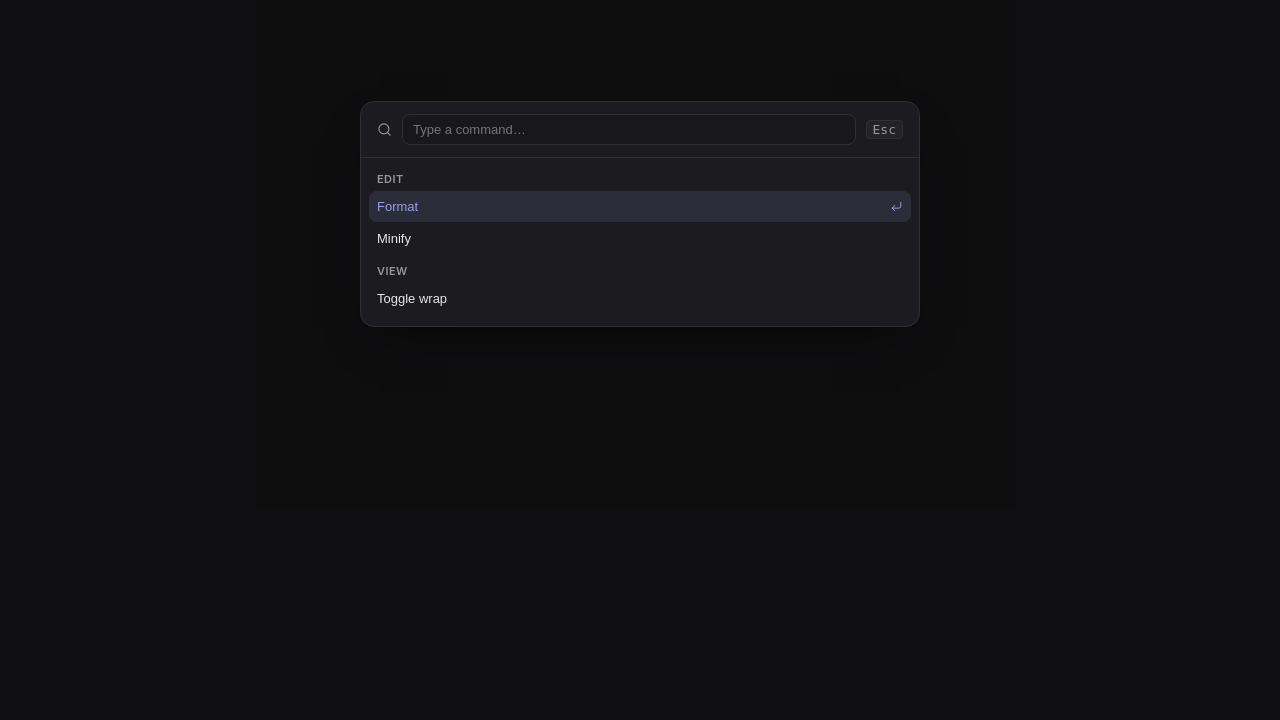
Scenario: CommandBar › also matches against the group name
Type "view" into the field with placeholder "Type a command…" at (629, 129), box [402, 114, 856, 145]
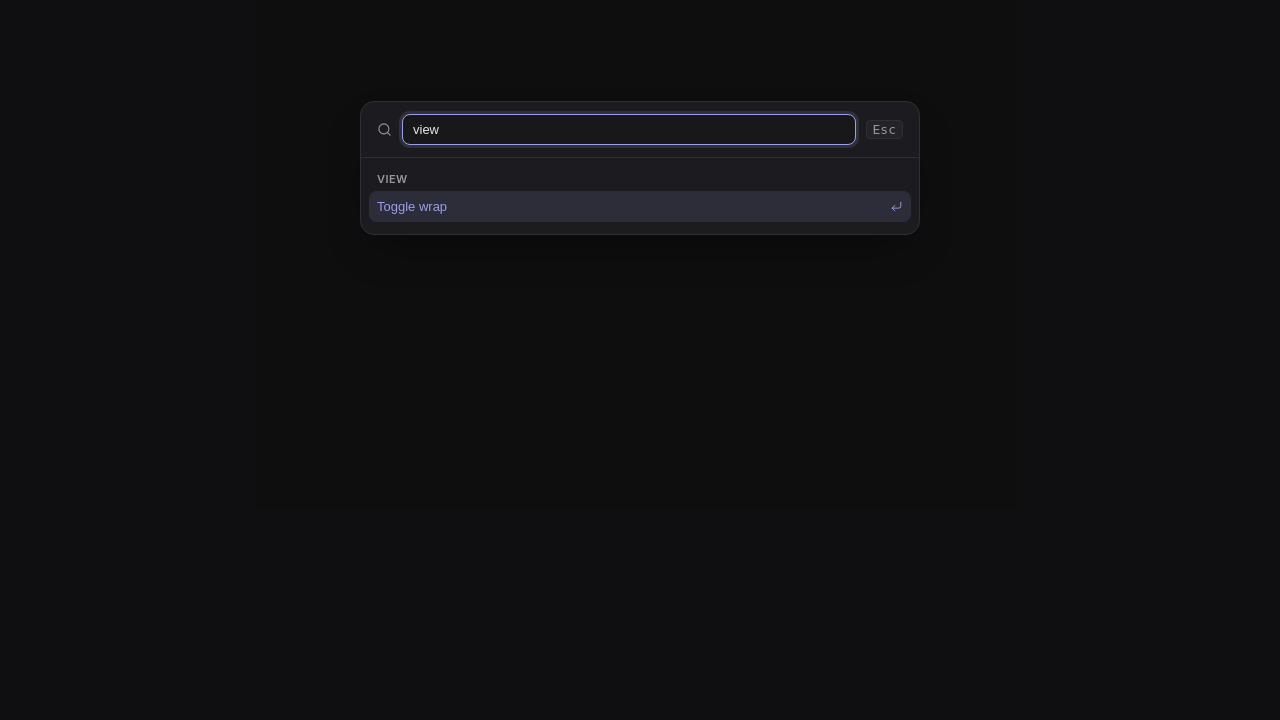
Expected: the button "Toggle wrap" is shown, [369, 191, 911, 222]
Now the button "Format" is gone
